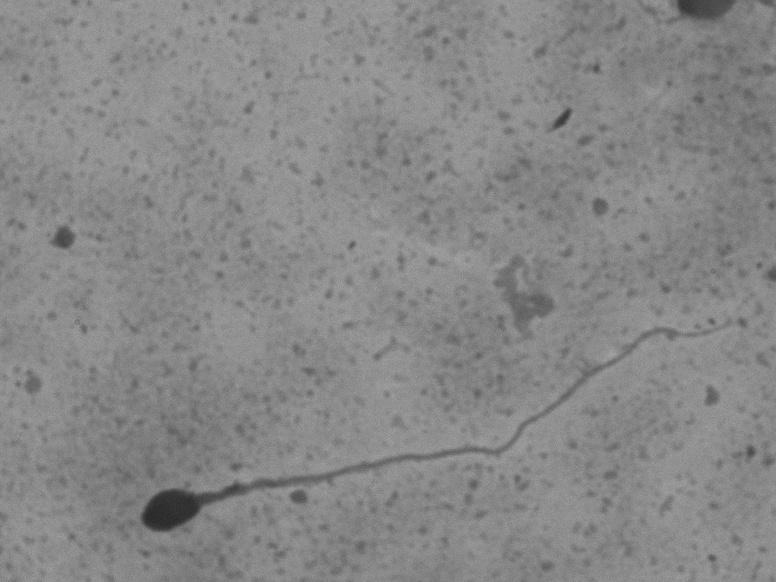Abnormal: (93, 285, 742, 565)
